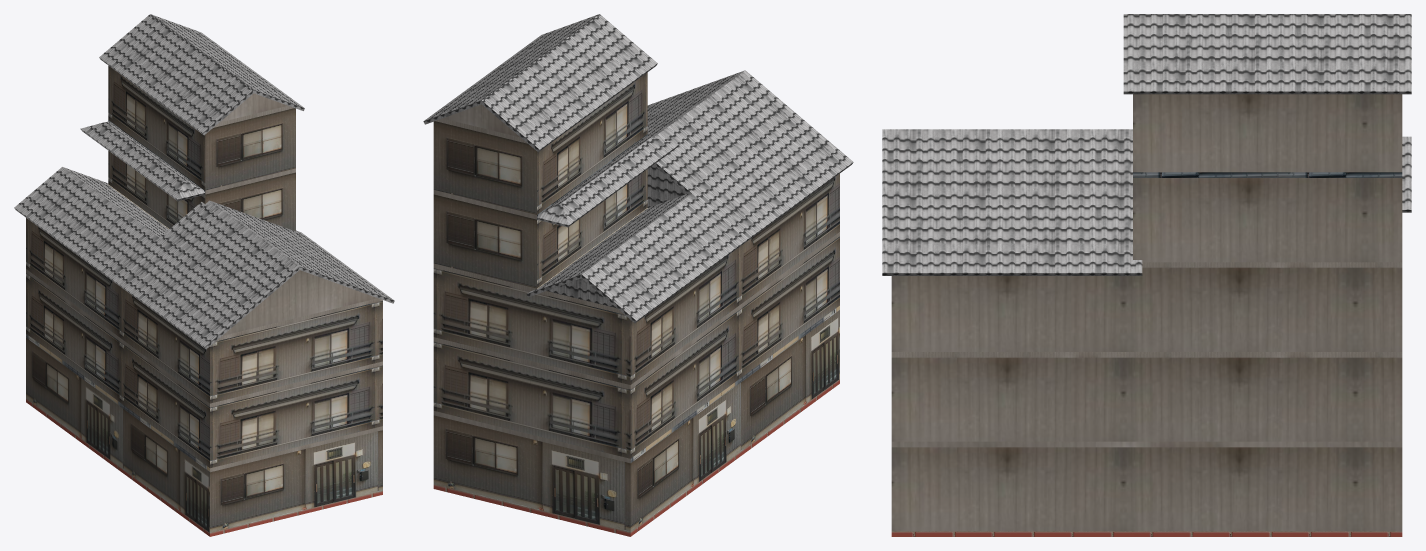
Rendered from tokyo-apato-b.glb.
The picture shows the model from 3 angles, left to right: view 1: azimuth 30°, elevation 25°; view 2: azimuth 150°, elevation 25°; view 3: azimuth 270°, elevation 25°; orthographic projection. The views are drawn at different scales.
Parts seen in each view (by area): view 1: Roof Side_17wYFYknTBi1aIjH2N7UvQ_{71e76449-dc67-4085-b746-1e, Wall_gmgo53V1T5eGAmXSallFLg_{65067079-f018-4183-852a-dbd47be, Wall_LySDuAx9R7iAijdnzNr5eA_{59ec9cca-e163-4223-867a-e31f946, Wall_GD07XLtoTe6V2E8QAXgjww_{59ec9cca-e163-4223-867a-e31f946, Wall_fVKmXW6hRoGdCFONdOwMNg_{65067079-f018-4183-852a-dbd47be, Wall_-K86tR3KQVOfq9Y7P5vEgg_{59ec9cca-e163-4223-867a-e31f946, Wall_ca0npXAVTGq2mO4eCMuq-w_{59ec9cca-e163-4223-867a-e31f946, Roof Side_uF5S-OjYSWeJD_-AudowKQ_{71e76449-dc67-4085-b746-1e, Roof Side_uvbVwiZLSTyheMDccqOeuQ_{71e76449-dc67-4085-b746-1e, Wall_XVEOH56LQju5m5VHdNNEfw_{65067079-f018-4183-852a-dbd47be, Wall_ZocFLFbDSZuBH89QR9HPRA_{59ec9cca-e163-4223-867a-e31f946, Roof Gable_SjAiAqoMR8y1LilB62WK_w_{7df558df-75c8-4d5f-9ee4-d (+13 smaller); view 2: Roof Side_17wYFYknTBi1aIjH2N7UvQ_{71e76449-dc67-4085-b746-1e, Wall_LySDuAx9R7iAijdnzNr5eA_{59ec9cca-e163-4223-867a-e31f946, Wall_gmgo53V1T5eGAmXSallFLg_{65067079-f018-4183-852a-dbd47be, Wall_nx58Hr7-QfeRzO-wWBFylw_{65067079-f018-4183-852a-dbd47be, Wall_zxEjsxixRJqkS2rpd9W_kQ_{59ec9cca-e163-4223-867a-e31f946, Wall_suQQx9-sTY-_-9QLkc1zWw_{59ec9cca-e163-4223-867a-e31f946, Wall_ca0npXAVTGq2mO4eCMuq-w_{59ec9cca-e163-4223-867a-e31f946, Roof Side_uF5S-OjYSWeJD_-AudowKQ_{71e76449-dc67-4085-b746-1e, Roof Side_uvbVwiZLSTyheMDccqOeuQ_{71e76449-dc67-4085-b746-1e, Wall_qAOcd7ZpTe6L4XVK-5xpyw_{65067079-f018-4183-852a-dbd47be, Wall_-EpxMAQYSxqaOm1CPpMHDw_{65067079-f018-4183-852a-dbd47be, Wall_ZocFLFbDSZuBH89QR9HPRA_{59ec9cca-e163-4223-867a-e31f946 (+15 smaller); view 3: Wall_trcFM74OTUqj3IDFRPS23w_{7df558df-75c8-4d5f-9ee4-d070632, Wall_mXFalURdQAqWxNm51hCwmQ_{7df558df-75c8-4d5f-9ee4-d070632, Wall_-EPaefndSlODQct_JFThpg_{7df558df-75c8-4d5f-9ee4-d070632, Roof Side_pUXZKX7zRvWB3-QCYd0kTg_{71e76449-dc67-4085-b746-1e, Roof Side_9U4Xh7jgR_--oYds8m22qQ_{71e76449-dc67-4085-b746-1e, Wall_T-aD6APfS8KML511LfoGdg_{7df558df-75c8-4d5f-9ee4-d070632, Wall_8FxCjSZ8Q9y-xA-Kzr5Efw_{7df558df-75c8-4d5f-9ee4-d070632, Slab_hkC-vGPERL-Pd6RMDDM0Tw_{7df558df-75c8-4d5f-9ee4-d070632, Slab_IqleQU--TOux9LpgxHjbEQ_{7aab4d66-75f4-6743-bfdb-e7d7289, Slab_VGwhFHWkSKqGBXG8zLBoJA_{7df558df-75c8-4d5f-9ee4-d070632, Slab_4HkppyyESaGsNW5VxfJlKQ_{de015272-b6d1-4696-8f8f-8c0af51, Slab_8AoHeyqSSxSdaYGM79xLcg_{7df558df-75c8-4d5f-9ee4-d070632 (+1 smaller).
Boxes of the visible parts, <box> form: Roof Side_17wYFYknTBi1aIjH2N7UvQ_{71e76449-dc67-4085-b746-1e: <box>118,200,299,349</box>; Wall_gmgo53V1T5eGAmXSallFLg_{65067079-f018-4183-852a-dbd47be: <box>26,338,209,532</box>; Wall_LySDuAx9R7iAijdnzNr5eA_{59ec9cca-e163-4223-867a-e31f946: <box>26,273,209,467</box>; Wall_GD07XLtoTe6V2E8QAXgjww_{59ec9cca-e163-4223-867a-e31f946: <box>210,365,382,468</box>; Wall_fVKmXW6hRoGdCFONdOwMNg_{65067079-f018-4183-852a-dbd47be: <box>210,430,382,532</box>; Wall_-K86tR3KQVOfq9Y7P5vEgg_{59ec9cca-e163-4223-867a-e31f946: <box>210,301,382,403</box>; Wall_ca0npXAVTGq2mO4eCMuq-w_{59ec9cca-e163-4223-867a-e31f946: <box>26,218,209,403</box>; Roof Side_uF5S-OjYSWeJD_-AudowKQ_{71e76449-dc67-4085-b746-1e: <box>99,14,253,135</box>; Roof Side_uvbVwiZLSTyheMDccqOeuQ_{71e76449-dc67-4085-b746-1e: <box>14,167,165,285</box>; Wall_XVEOH56LQju5m5VHdNNEfw_{65067079-f018-4183-852a-dbd47be: <box>205,108,295,190</box>; Wall_ZocFLFbDSZuBH89QR9HPRA_{59ec9cca-e163-4223-867a-e31f946: <box>108,65,205,190</box>; Roof Gable_SjAiAqoMR8y1LilB62WK_w_{7df558df-75c8-4d5f-9ee4-d: <box>222,270,377,335</box>; Roof Side_17wYFYknTBi1aIjH2N7UvQ_{71e76449-dc67-4085-b746-1e: <box>654,70,853,239</box>; Wall_LySDuAx9R7iAijdnzNr5eA_{59ec9cca-e163-4223-867a-e31f946: <box>630,236,839,458</box>; Wall_gmgo53V1T5eGAmXSallFLg_{65067079-f018-4183-852a-dbd47be: <box>630,310,839,531</box>; Wall_nx58Hr7-QfeRzO-wWBFylw_{65067079-f018-4183-852a-dbd47be: <box>433,415,630,532</box>; Wall_zxEjsxixRJqkS2rpd9W_kQ_{59ec9cca-e163-4223-867a-e31f946: <box>433,342,630,458</box>; Wall_suQQx9-sTY-_-9QLkc1zWw_{59ec9cca-e163-4223-867a-e31f946: <box>433,268,630,384</box>; Wall_ca0npXAVTGq2mO4eCMuq-w_{59ec9cca-e163-4223-867a-e31f946: <box>630,174,839,384</box>; Roof Side_uF5S-OjYSWeJD_-AudowKQ_{71e76449-dc67-4085-b746-1e: <box>481,14,657,152</box>; Roof Side_uvbVwiZLSTyheMDccqOeuQ_{71e76449-dc67-4085-b746-1e: <box>581,194,753,323</box>; Wall_qAOcd7ZpTe6L4XVK-5xpyw_{65067079-f018-4183-852a-dbd47be: <box>433,194,536,288</box>; Wall_-EpxMAQYSxqaOm1CPpMHDw_{65067079-f018-4183-852a-dbd47be: <box>433,121,536,214</box>; Wall_ZocFLFbDSZuBH89QR9HPRA_{59ec9cca-e163-4223-867a-e31f946: <box>537,72,647,214</box>; Wall_trcFM74OTUqj3IDFRPS23w_{7df558df-75c8-4d5f-9ee4-d070632: <box>891,447,1402,531</box>; Wall_mXFalURdQAqWxNm51hCwmQ_{7df558df-75c8-4d5f-9ee4-d070632: <box>891,357,1402,441</box>; Wall_-EPaefndSlODQct_JFThpg_{7df558df-75c8-4d5f-9ee4-d070632: <box>891,267,1402,351</box>; Roof Side_pUXZKX7zRvWB3-QCYd0kTg_{71e76449-dc67-4085-b746-1e: <box>882,129,1142,275</box>; Roof Side_9U4Xh7jgR_--oYds8m22qQ_{71e76449-dc67-4085-b746-1e: <box>1123,14,1411,94</box>; Wall_T-aD6APfS8KML511LfoGdg_{7df558df-75c8-4d5f-9ee4-d070632: <box>1133,178,1402,262</box>; Wall_8FxCjSZ8Q9y-xA-Kzr5Efw_{7df558df-75c8-4d5f-9ee4-d070632: <box>1133,94,1402,172</box>; Slab_hkC-vGPERL-Pd6RMDDM0Tw_{7df558df-75c8-4d5f-9ee4-d070632: <box>891,441,1402,447</box>; Slab_IqleQU--TOux9LpgxHjbEQ_{7aab4d66-75f4-6743-bfdb-e7d7289: <box>891,531,1402,536</box>; Slab_VGwhFHWkSKqGBXG8zLBoJA_{7df558df-75c8-4d5f-9ee4-d070632: <box>891,352,1402,357</box>; Slab_4HkppyyESaGsNW5VxfJlKQ_{de015272-b6d1-4696-8f8f-8c0af51: <box>1133,172,1402,177</box>; Slab_8AoHeyqSSxSdaYGM79xLcg_{7df558df-75c8-4d5f-9ee4-d070632: <box>1142,262,1402,267</box>.
Size of the model in its own units: 9.85 by 17.56 by 17.1.
Materials: 10 (7 with a texture image).
